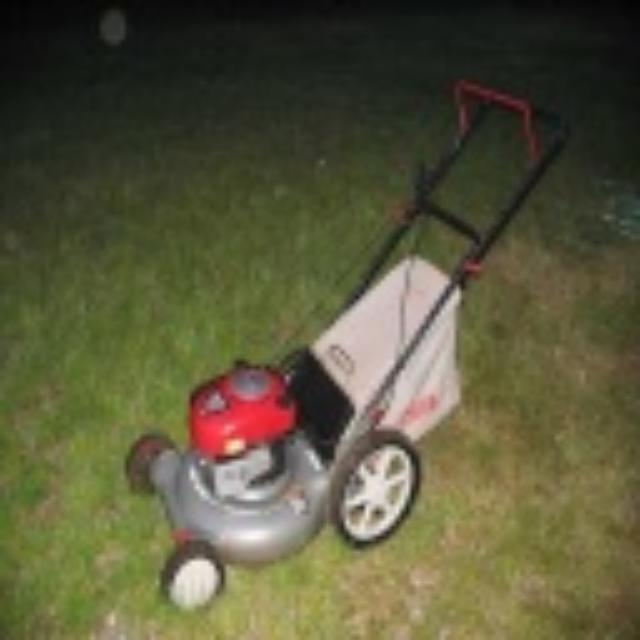Rotary-Mower: (111, 46, 588, 622)
